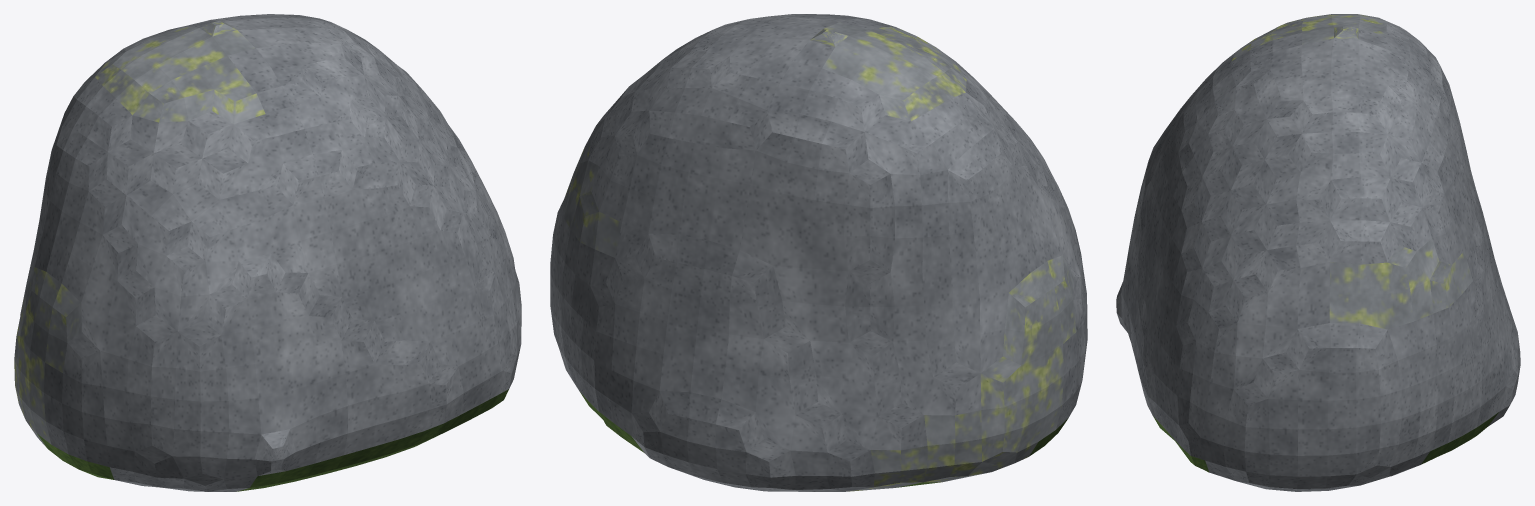
The model's file is rock_medium.glb.
3 views of the same model, side by side, from view 1: azimuth 30°, elevation 25°; view 2: azimuth 150°, elevation 25°; view 3: azimuth 270°, elevation 25° (orthographic). The views are drawn at different scales.
Parts seen in each view (by area): view 1: wilds_rock_medium; view 2: wilds_rock_medium; view 3: wilds_rock_medium.
Boxes of the visible parts, x1,y1,x2,y2 form: wilds_rock_medium: [14, 14, 521, 491]; wilds_rock_medium: [550, 14, 1087, 491]; wilds_rock_medium: [1116, 14, 1520, 491].
Size of the model in its own units: 0.9112 by 0.7575 by 0.7394.
Materials: 1 (1 with a texture image).
